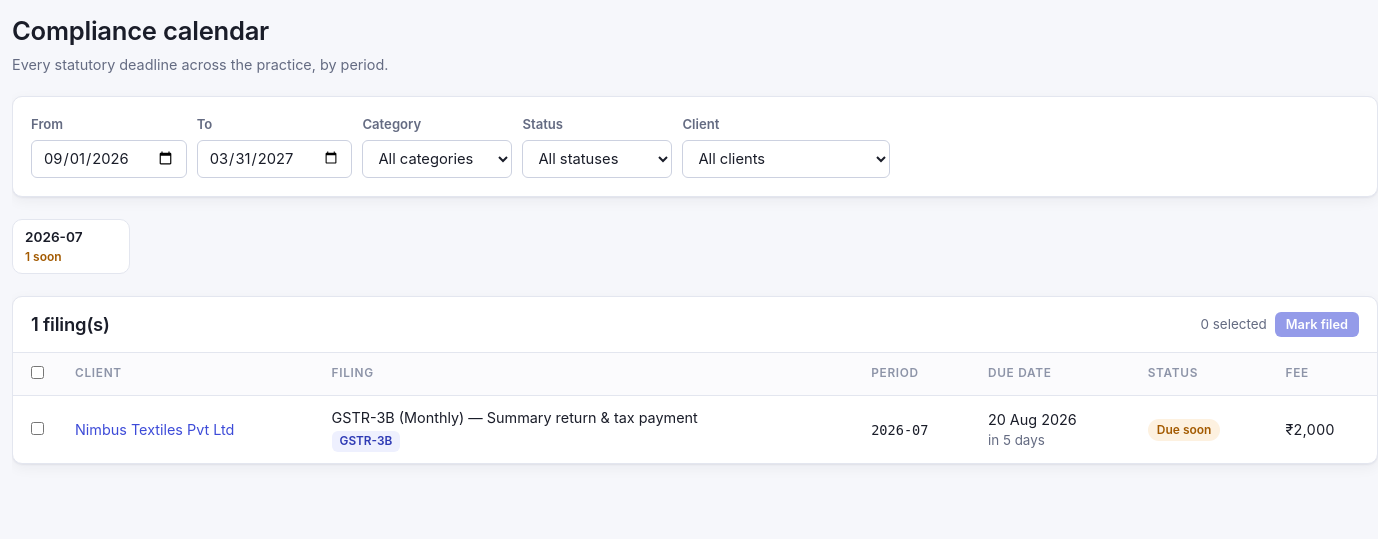
Compliance calendar › a selection that would re-date work already filed › says so when the server kept a lodgement date the batch asked to move
Click the checkbox named "Select GSTR-3B (Monthly)" at (38, 428), box [31,422,44,435]
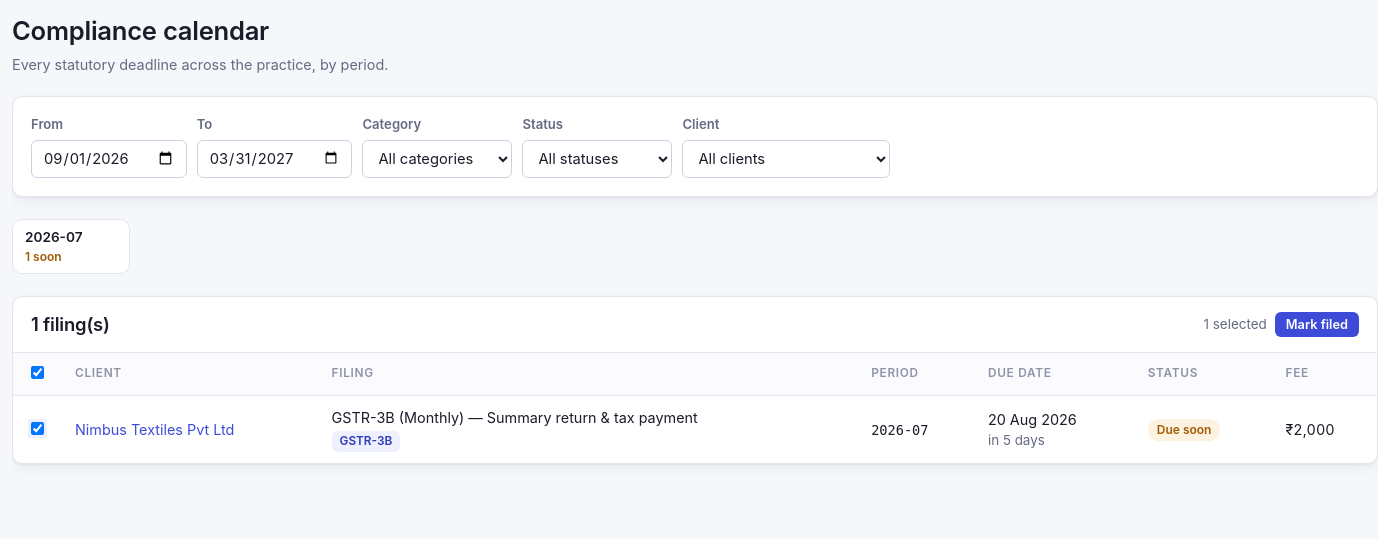
Click the button "Mark filed" at (1317, 324), box [1275,312,1359,337]
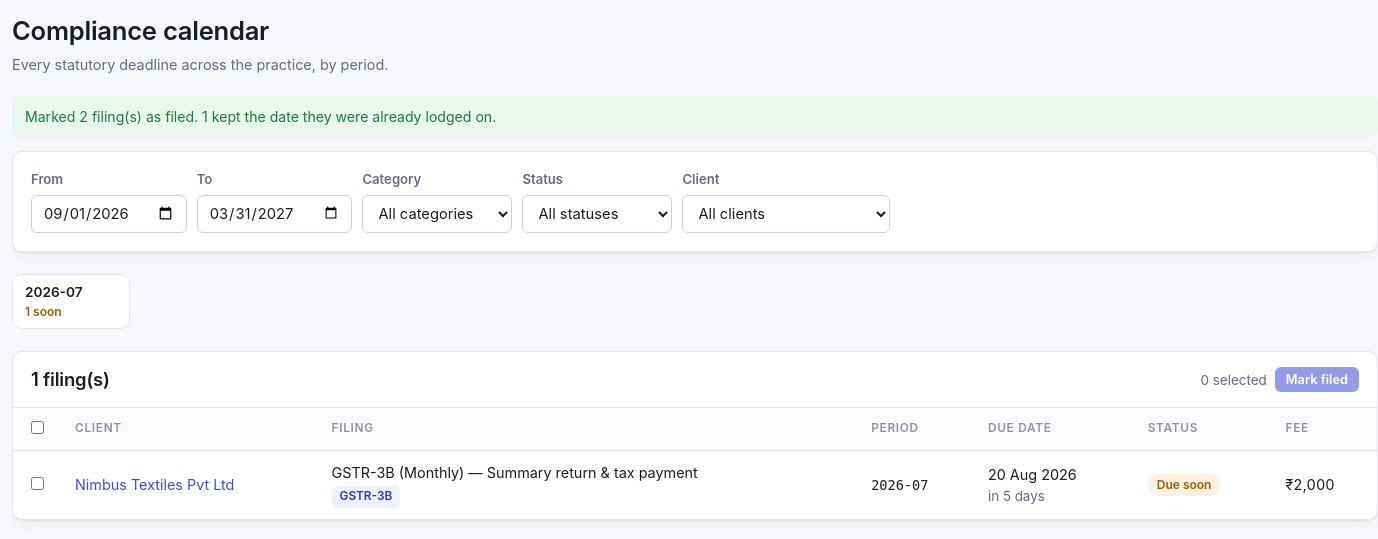
Result: the text "1 kept the date they were already lodged on" is shown at [25,108,496,125]
